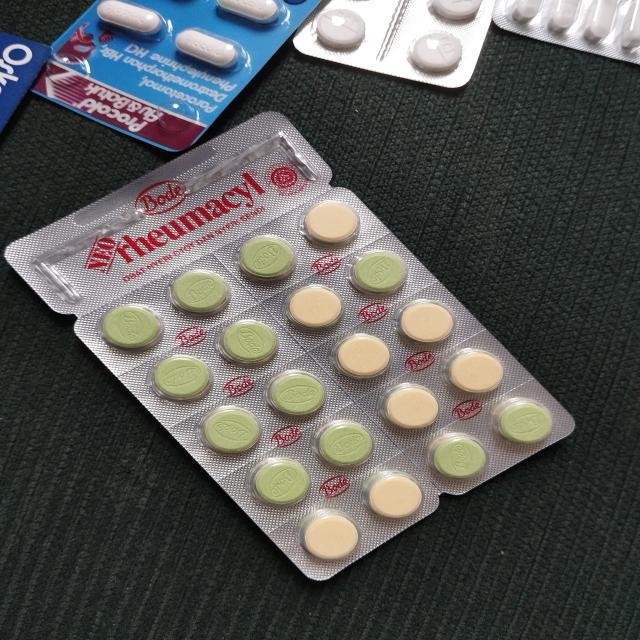B3: (3, 111, 575, 582), (32, 0, 316, 151), (290, 0, 498, 91), (493, 0, 640, 65)
